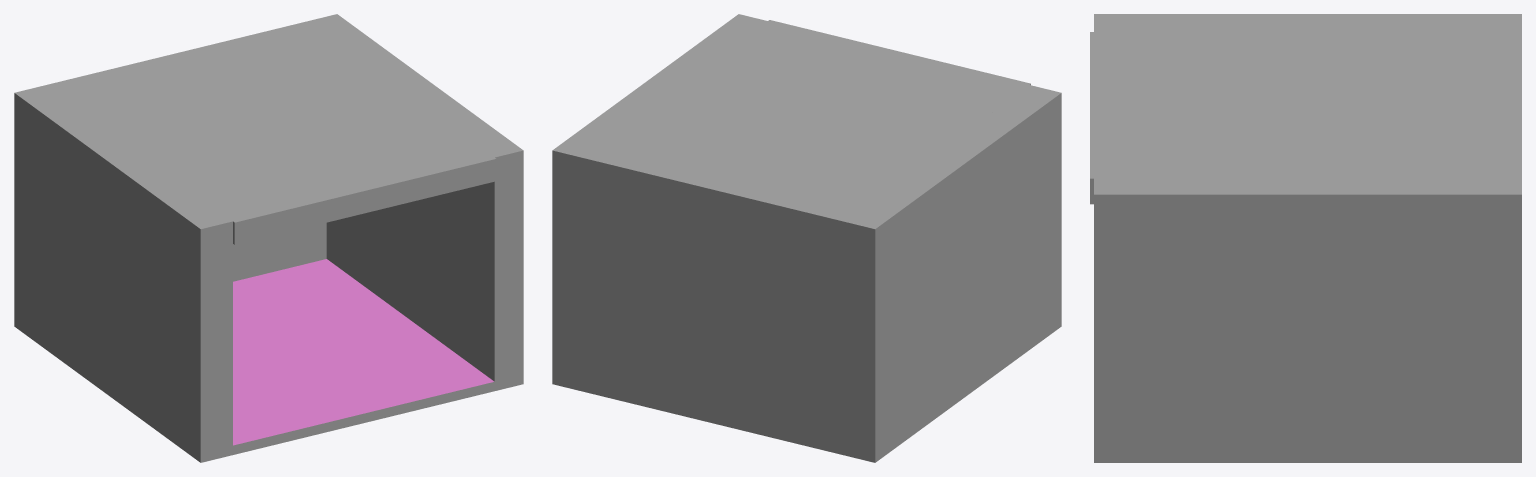
Rendered from walls.fbx.
3 renders of one model, left to right at view 1: azimuth 30°, elevation 25°; view 2: azimuth 150°, elevation 25°; view 3: azimuth 270°, elevation 25°, orthographic. The views are drawn at different scales.
Visible parts, largest first — view 1: pCube13; view 2: pCube13; view 3: pCube13.
Boxes of the visible parts, x1,y1,x2,y2 form: pCube13: (14,14,523,462); pCube13: (552,14,1061,462); pCube13: (1090,14,1521,462).
Size of the model in its own units: 52.91 by 36.59 by 53.4.
